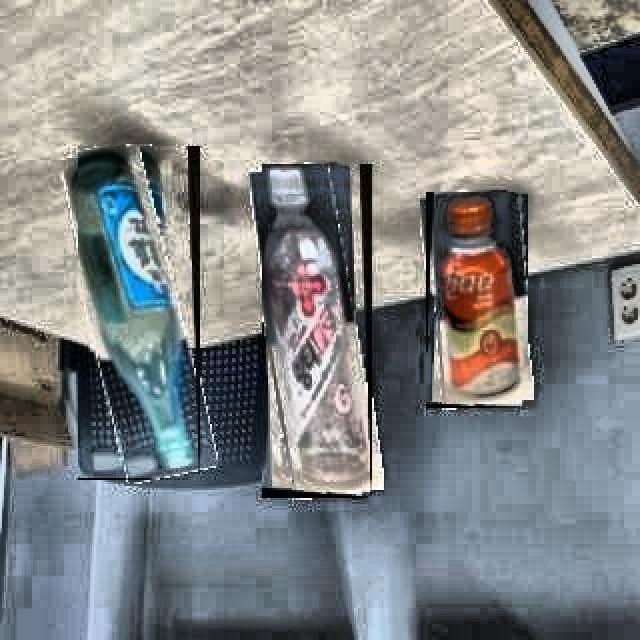Anorganik: (76, 144, 200, 480), (260, 162, 372, 498), (424, 190, 528, 408)
